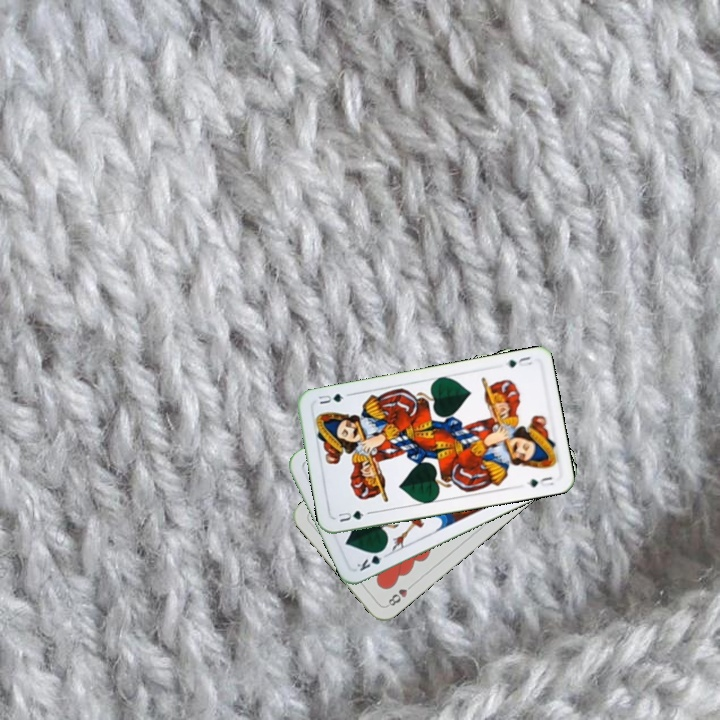GK: (353, 545, 389, 574)
GU: (501, 352, 535, 370), (334, 506, 366, 525)
H8: (383, 579, 417, 609)
